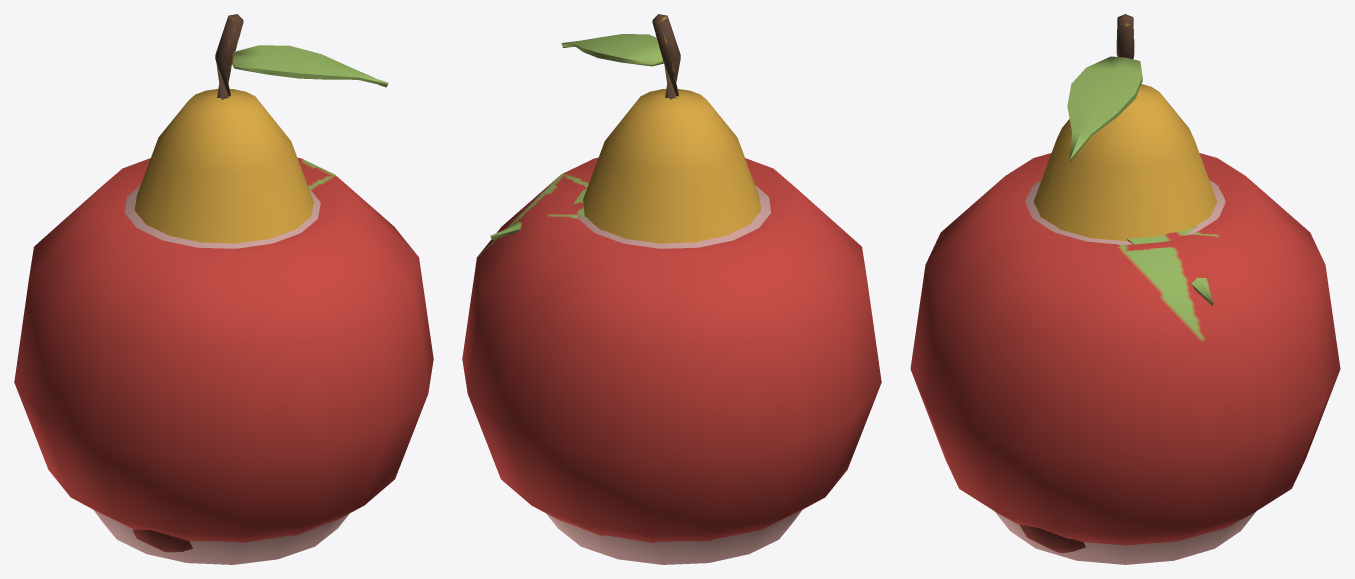
Rendered from fruit.glb.
3 renders of one model, left to right at view 1: azimuth 30°, elevation 25°; view 2: azimuth 150°, elevation 25°; view 3: azimuth 270°, elevation 25°, orthographic.
Parts seen in each view (by area): view 1: pomme, poire, peche, cerises; view 2: pomme, poire, peche; view 3: pomme, poire, peche, cerises.
Boxes of the visible parts, x1,y1,x2,y2 form: pomme: (14, 157, 433, 542); poire: (134, 14, 388, 243); peche: (94, 185, 349, 564); cerises: (132, 529, 192, 552); pomme: (462, 157, 881, 542); poire: (561, 14, 761, 243); peche: (546, 185, 801, 564); pomme: (910, 153, 1340, 545); poire: (1033, 14, 1217, 240); peche: (995, 180, 1255, 564); cerises: (1020, 524, 1085, 553).
Size of the model in its own units: 0.085 by 0.11 by 0.085.
1 material, 1 textured.
